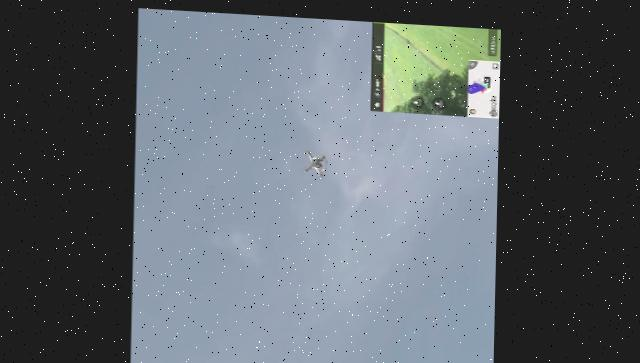drone: (305, 145, 329, 174)
